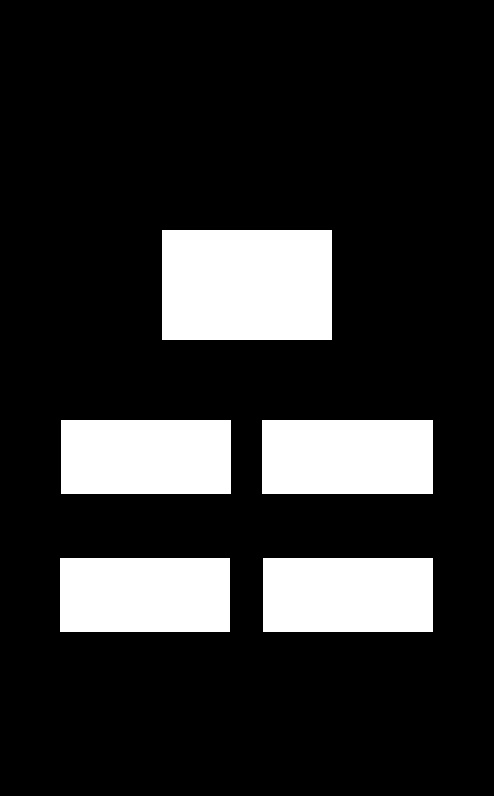table: (162, 230, 331, 339), (262, 420, 432, 493), (61, 420, 230, 493), (263, 558, 432, 631), (60, 558, 229, 631)
